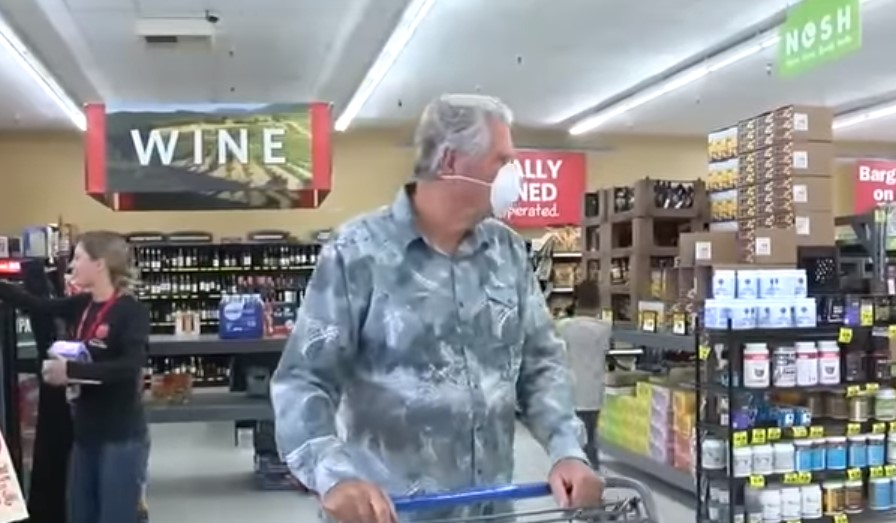face_no_mask: (70, 230, 136, 301)
face_with_mask: (413, 98, 523, 219)
